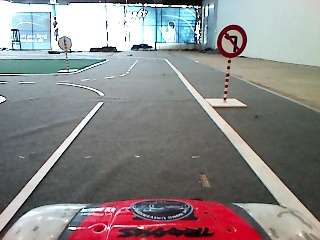ban: (216, 23, 248, 58)
